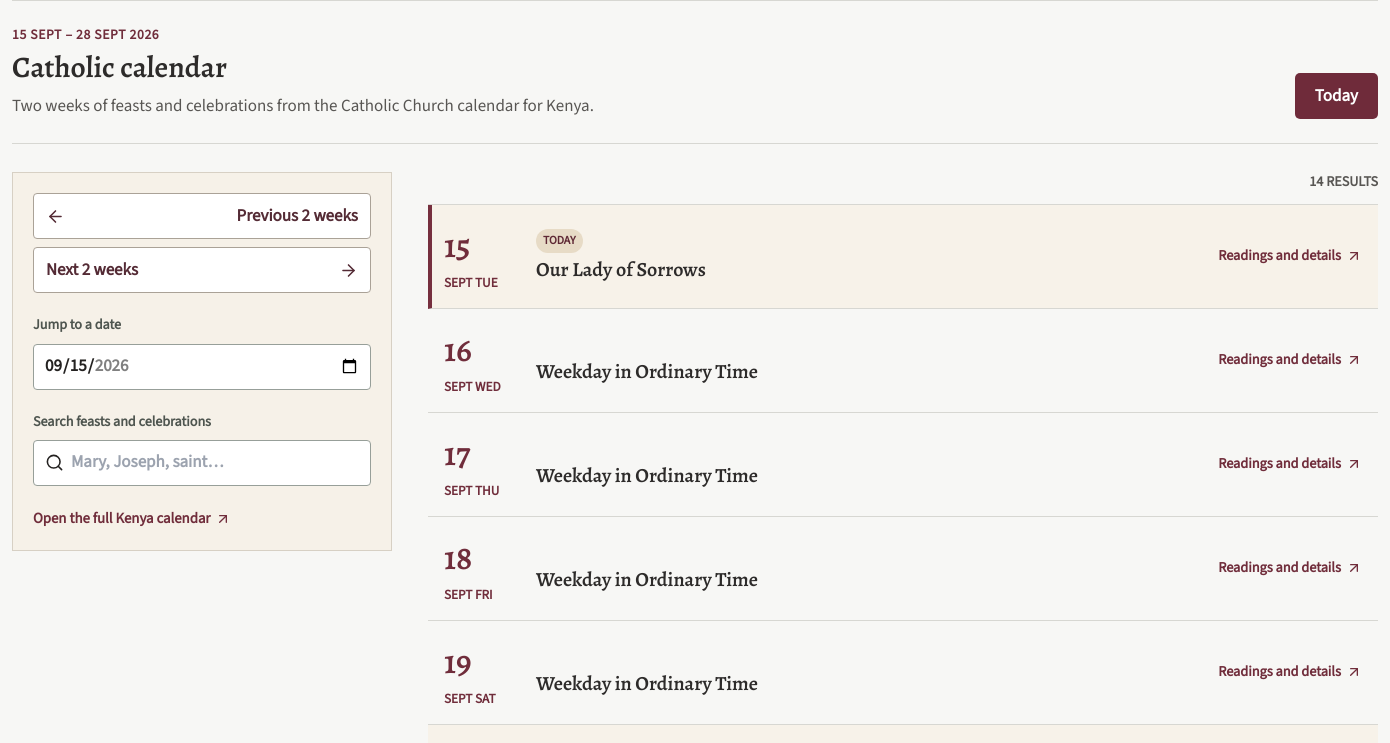
LiturgicalCalendar › shows a searchable two-week Kenya calendar
Expected: the heading "Our Lady of Sorrows" is shown, [536,256,706,283]
Expected: the button "Today" is shown, [1295,73,1378,119]
Type "Sorrows" into the search field at x=214, y=463, box [71,441,358,485]
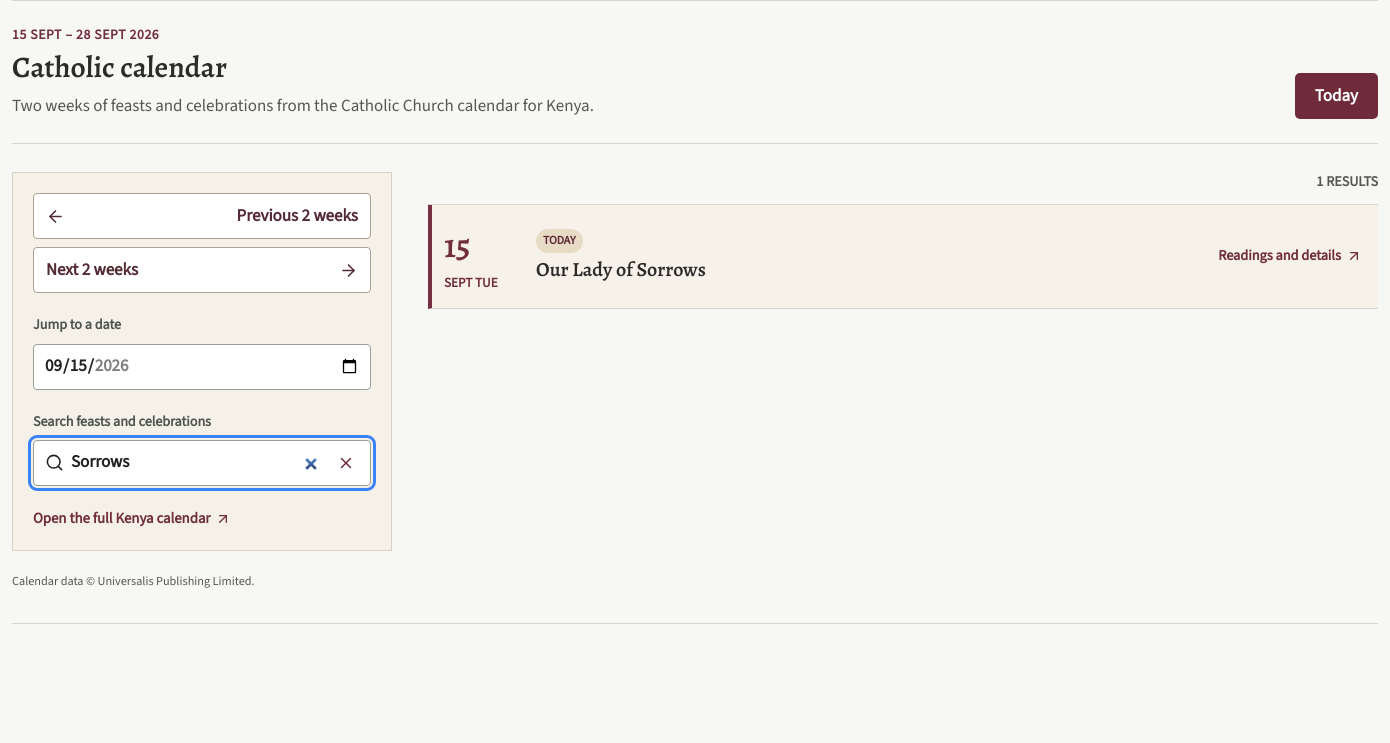
Expected: the number of list items is 1, [428,205,1378,309]
Now the text "1 results" is shown, box [1316,172,1378,192]
